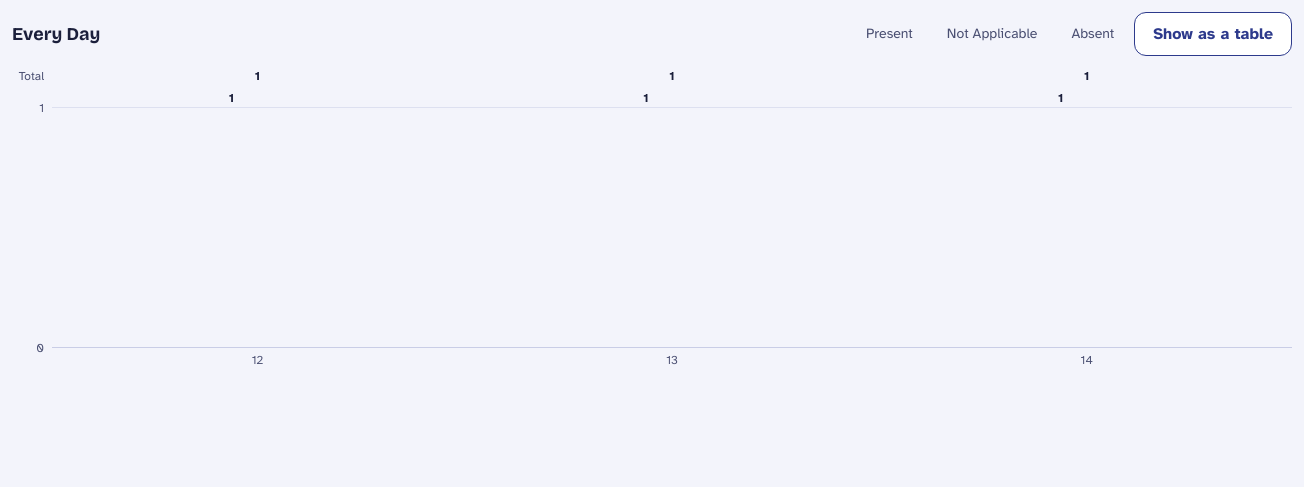
Test: the chart of every Day › says so when nobody was Absent on the pressed Day
Step 1. Click the button named "Monday 12 October" → (257, 228), box [52,108,463,347]
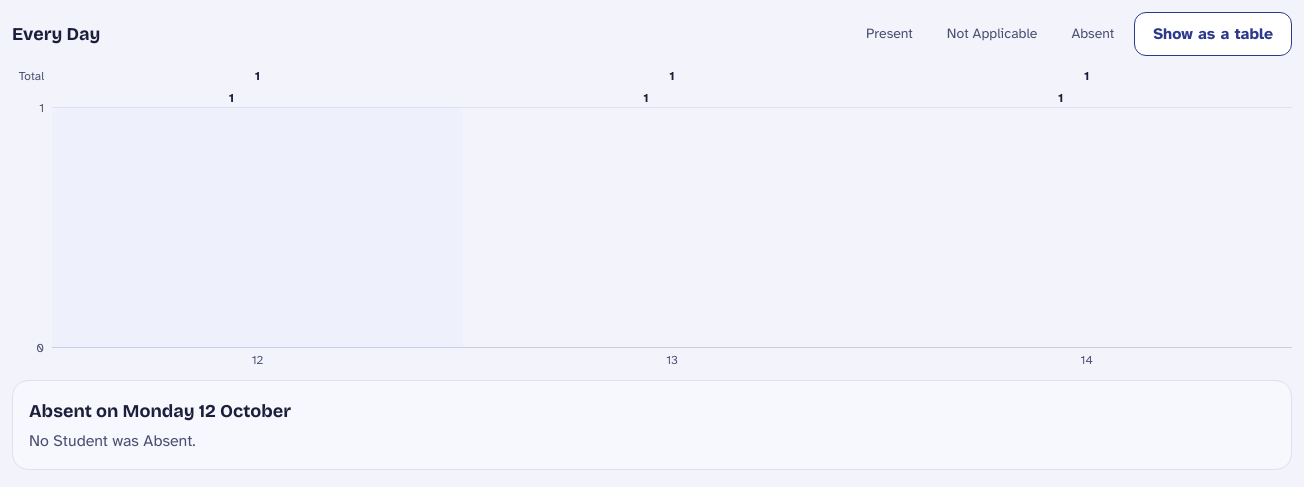
Result: the text "No Student was Absent." is shown at [29,431,196,451]
